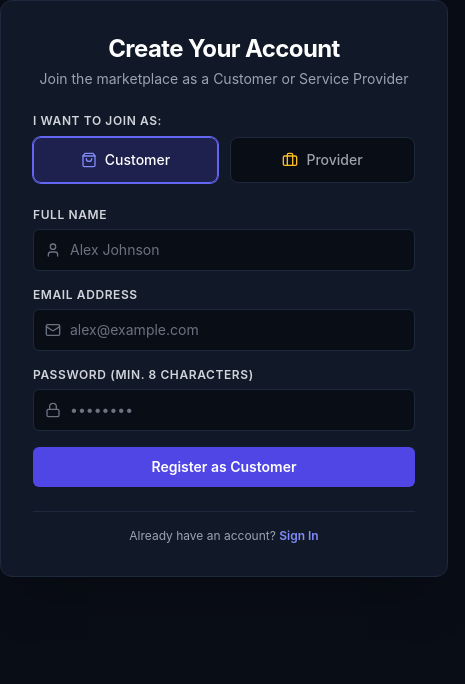
Test: RegisterForm (Fake DOM / Component Tests) › should display error alert banner when API responds with 409
Type "Duplicate User" into the field labelled "Full Name".
click(224, 250); type("Duplicate User")  # box [33,229,415,271]
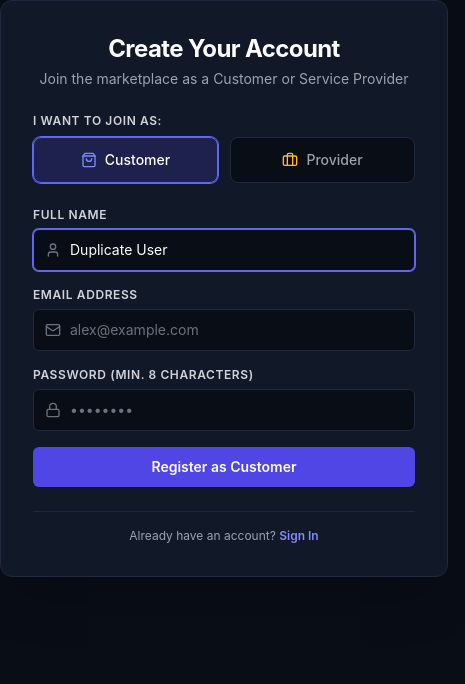
Type "existing@example.com" into the field labelled "Email Address".
click(224, 330); type("existing@example.com")  # box [33,309,415,351]
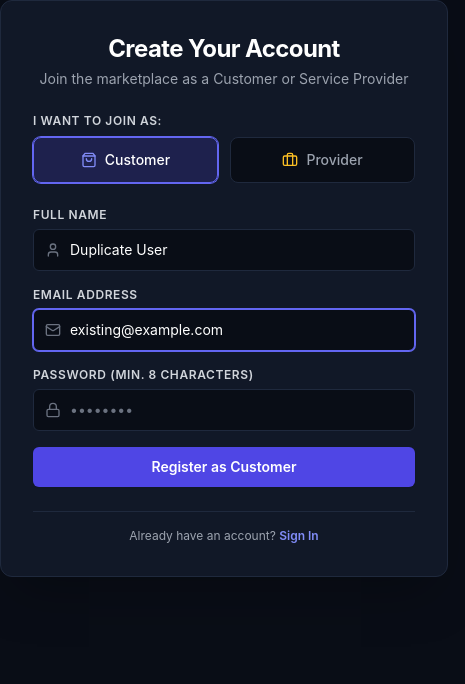
Type "SecurePass123!" into the password field labelled "Password (min. 8 characters)".
click(224, 410); type("SecurePass123!")  # box [33,389,415,431]
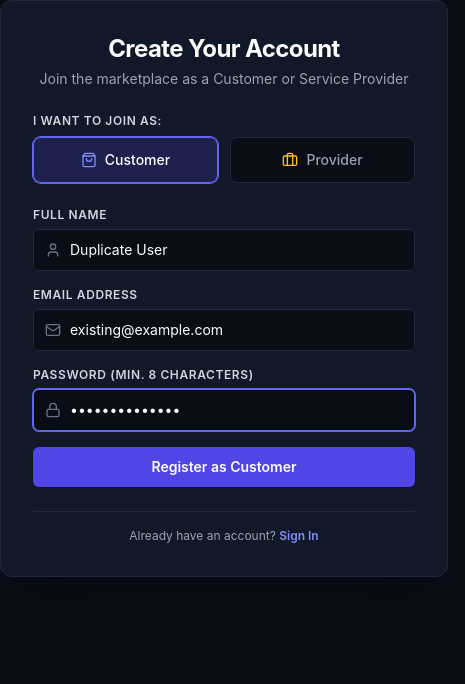
Click the button with test id "submit-button".
click(224, 467)  # box [33,447,415,487]
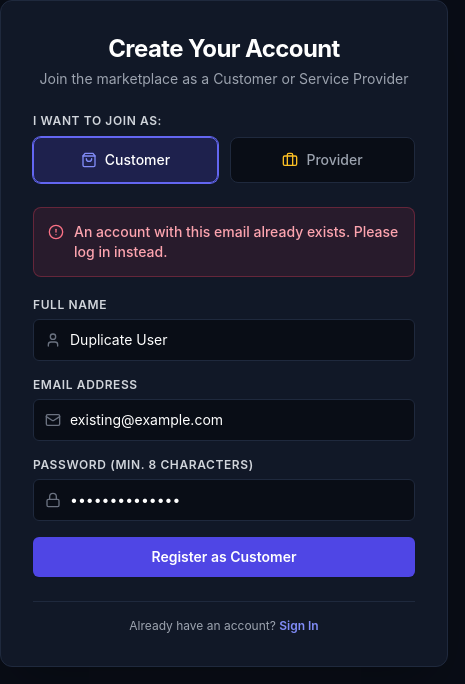
Result: the message "An account with this email already exists. Please log in instead." is shown at [33,207,415,277]
Result: the message with test id "error-alert" shows "already exists" at [74,223,398,260]
